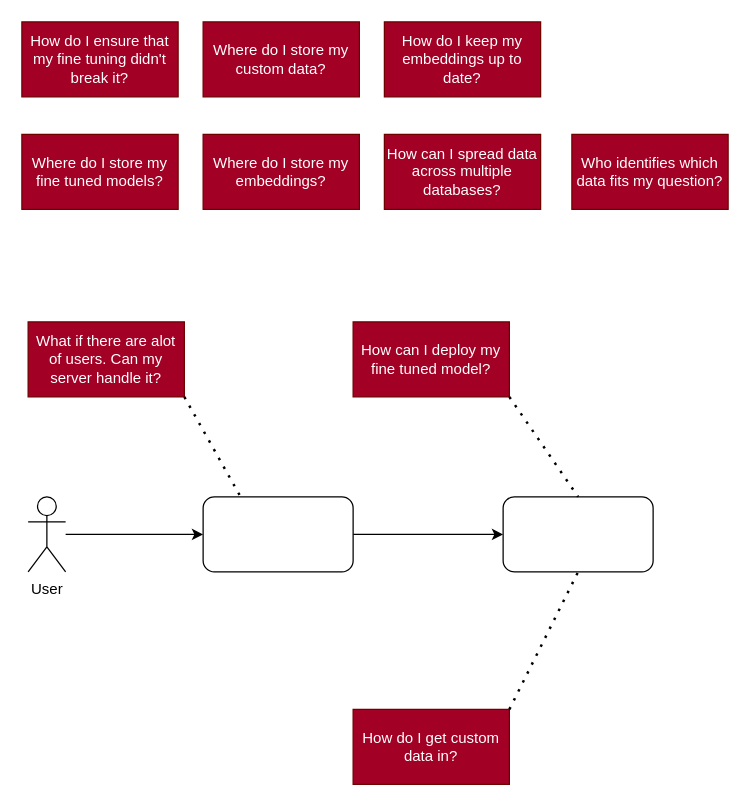
Some shapes in this 750 by 806 pixel diagram are drawn without their labels. Here are the shapes that lost their labels. From the top down, the box of each, then its label:
(202, 496, 353, 572): Streamlit
(502, 496, 653, 572): LLM Endpoint (Managed) e.g. Ollama, Cloud
